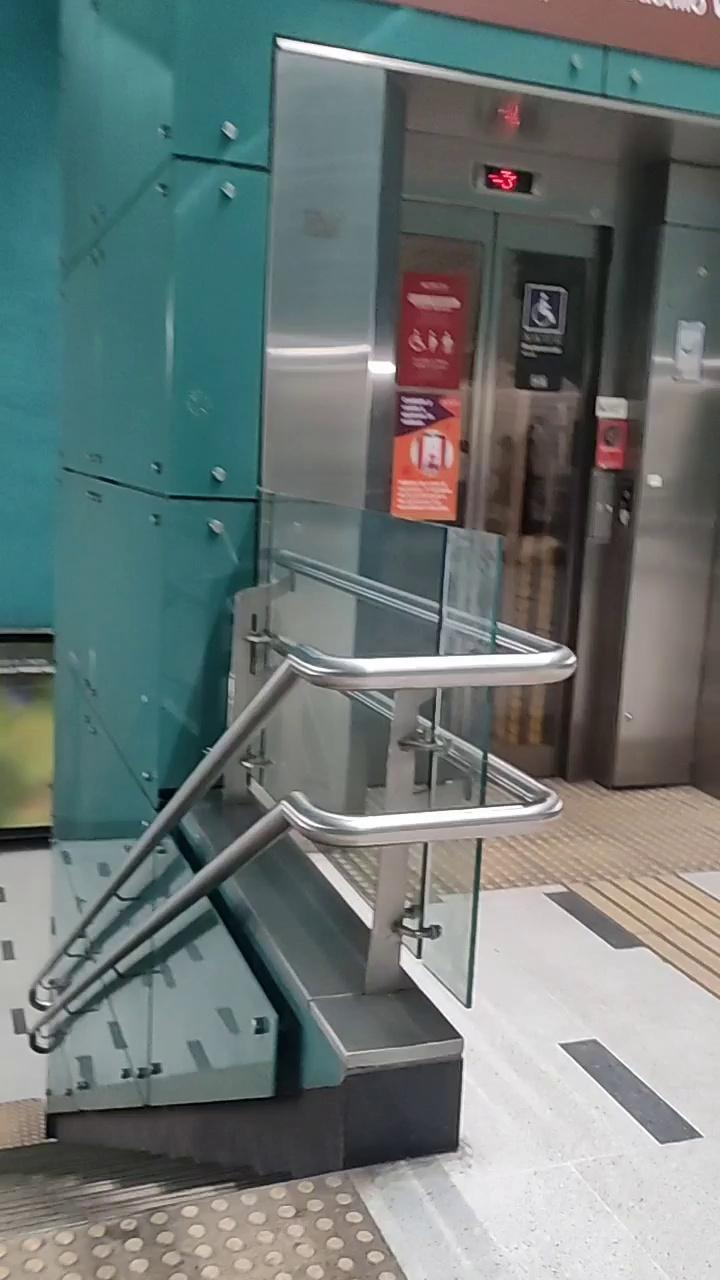handicapped symbol: (531, 290, 558, 328)
